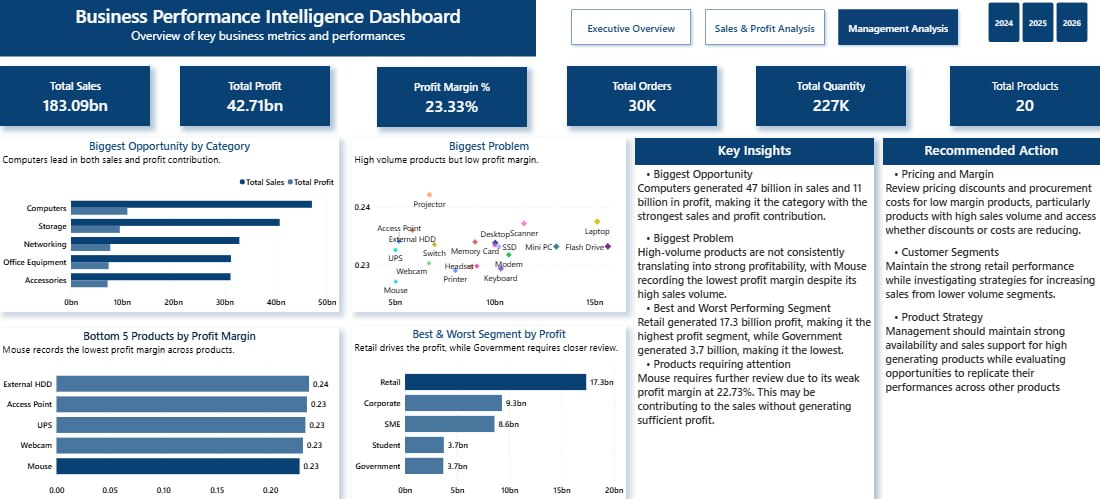

Layout of this report page (visuals, bound fields, positions):
{"tool":"powerbi","page":{"name":"Management Analysis","canvas":[2200,1000],"ordinal":2},"visuals":[{"type":"cardVisual","fields":{"Data":["Dim_Customers.Total Net Sales"]},"box":[0,132,300,120],"z":0},{"type":"cardVisual","fields":{"Data":["Dim_Customers.Total Quantity"]},"box":[1512,132,300,120],"z":1000},{"type":"cardVisual","fields":{"Data":["Dim_Customers.Profit Margin %"]},"box":[754,134,300,120],"z":2000},{"type":"cardVisual","fields":{"Data":["Dim_Customers.Total Profit"]},"box":[360,132,300,120],"z":3000},{"type":"textbox","box":[0,0,1072,112.5],"z":4000},{"type":"cardVisual","fields":{"Data":["Dim_Customers.Total Orders"]},"box":[1134,132,300,120],"z":5000},{"type":"advancedSlicerVisual","fields":{"Values":["Dim_Date.Year"]},"box":[1952,0,248.2,89.3],"z":6000},{"type":"clusteredBarChart","title":"Biggest Opportunity by Category","fields":{"Y":["Dim_Customers.Total Sales","Dim_Customers.Total Profit"],"Category":["Dim_Products.Category"]},"box":[0,276,678,348],"z":7000},{"type":"clusteredBarChart","title":"Best & Worst Segment by Profit","fields":{"Category":["Dim_Customers.Segment"],"Y":["Dim_Customers.Total Profit"]},"box":[704,652,548,348],"z":8000},{"type":"barChart","title":"Bottom 5 Products by Profit Margin","fields":{"Category":["Dim_Products.Product_Name"],"Y":["Dim_Customers.Profit Margin %"]},"box":[0,656,678,344],"z":9000},{"type":"scatterChart","title":"Biggest Problem","fields":{"X":["Dim_Customers.Total Sales"],"Category":["Dim_Products.Product_Name"],"Y":["Dim_Customers.Profit Margin %"],"Size":["Dim_Customers.Total Quantity"]},"box":[704,276,548,348],"z":10000},{"type":"pageNavigator","box":[1134,10,792,89],"z":11000},{"type":"cardVisual","fields":{"Data":["Dim_Customers.Total Products"]},"box":[1900,132,300,120],"z":12000},{"type":"textbox","box":[1270,276,478,724],"z":13000},{"type":"textbox","box":[1766,276,434,724],"z":14000},{"type":"textbox","box":[1766,276,434,54],"z":15000},{"type":"textbox","box":[1270,276,478,54],"z":16000}]}

Visuals, with their boxes in screenshot pixels (x1, y1, x2, y2), scaled from the page's 2200x1000 canvas onto the 1100x499 screenshot:
cardVisual - Dim_Customers.Total Net Sales: BBox(0, 66, 150, 126)
cardVisual - Dim_Customers.Total Quantity: BBox(756, 66, 906, 126)
cardVisual - Dim_Customers.Profit Margin %: BBox(377, 67, 527, 127)
cardVisual - Dim_Customers.Total Profit: BBox(180, 66, 330, 126)
textbox: BBox(0, 0, 536, 56)
cardVisual - Dim_Customers.Total Orders: BBox(567, 66, 717, 126)
advancedSlicerVisual - Dim_Date.Year: BBox(976, 0, 1099, 45)
"Biggest Opportunity by Category" clusteredBarChart: BBox(0, 138, 339, 311)
"Best & Worst Segment by Profit" clusteredBarChart: BBox(352, 325, 626, 498)
"Bottom 5 Products by Profit Margin" barChart: BBox(0, 327, 339, 498)
"Biggest Problem" scatterChart: BBox(352, 138, 626, 311)
pageNavigator: BBox(567, 5, 963, 49)
cardVisual - Dim_Customers.Total Products: BBox(950, 66, 1099, 126)
textbox: BBox(635, 138, 874, 498)
textbox: BBox(883, 138, 1099, 498)
textbox: BBox(883, 138, 1099, 165)
textbox: BBox(635, 138, 874, 165)
